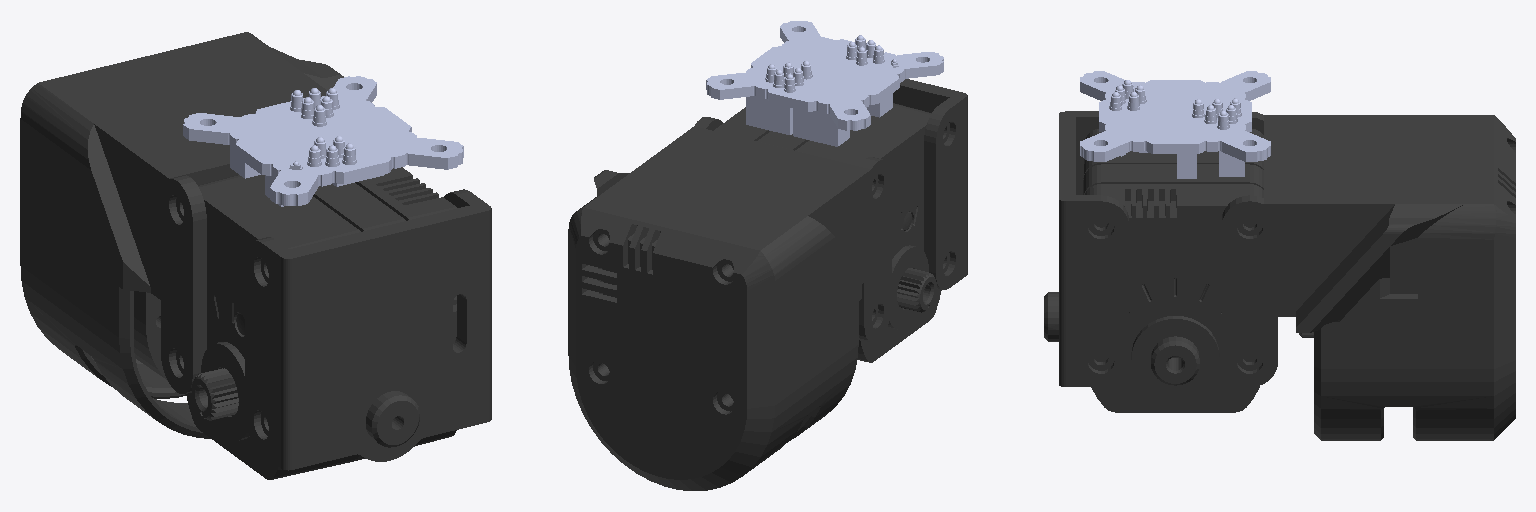
URDF robot description (screw_26mmhinge_module_cover_0deg):
<?xml version='1.0' encoding='UTF-8'?>
<robot name="screw_26mmhinge_module_cover_0deg">
  <link name="base_link">
    <inertial>
      <origin xyz="-0.000397243037985137 -0.000299123988951571 0.0268900174967925" rpy="0.0 -0.0 0.0"/>
      <mass value="0.0392907478850212"/>
      <inertia ixx="6.49315163386437e-06" ixy="-1.58700153015025e-07" ixz="1.07943557378575e-07" iyy="7.59585884582494e-06" iyz="-1.02493309535865e-09" izz="5.32693747823652e-06"/>
    </inertial>
    <visual>
      <geometry>
        <mesh filename="package://screw_26mmhinge_module_cover_0deg/meshes/base_link.dae"/>
      </geometry>
      <material name="__unnamed_material_1"/>
      <origin xyz="0.0 0.0 0.0" rpy="0.0 -0.0 0.0"/>
    </visual>
    <collision>
      <geometry>
        <mesh filename="package://screw_26mmhinge_module_cover_0deg/meshes/base_link.dae"/>
      </geometry>
      <origin xyz="0.0 0.0 0.0" rpy="0.0 -0.0 0.0"/>
    </collision>
  </link>
  <link name="link1">
    <inertial>
      <origin xyz="0.00050176181802974 0.000131881332311372 0.0261566388593281" rpy="0.0 -0.0 0.0"/>
      <mass value="0.015679495466009"/>
      <inertia ixx="2.36251577154097e-06" ixy="-2.28902268828607e-09" ixz="1.04881203366641e-08" iyy="2.26742863290264e-06" iyz="5.68818291644029e-09" izz="3.78920030884968e-06"/>
    </inertial>
    <visual>
      <geometry>
        <mesh filename="package://screw_26mmhinge_module_cover_0deg/meshes/link1.dae"/>
      </geometry>
      <material name="__unnamed_material_2"/>
      <origin xyz="0.0 0.0 0.0" rpy="0.0 -0.0 0.0"/>
    </visual>
    <collision>
      <geometry>
        <mesh filename="package://screw_26mmhinge_module_cover_0deg/meshes/link1.dae"/>
      </geometry>
      <origin xyz="0.0 0.0 0.0" rpy="0.0 -0.0 0.0"/>
    </collision>
  </link>
  <link name="dummy_link">
    <inertial>
      <origin xyz="-0.0014613136949066 0.000201870283592702 -0.00283550060370832" rpy="0.0 -0.0 0.0"/>
      <mass value="0.00131295075943631"/>
      <inertia ixx="5.41755504446753e-08" ixy="1.27650591704971e-09" ixz="-4.82976525914748e-09" iyy="5.88144881419792e-08" iyz="3.56234285325651e-10" izz="1.05520720481453e-07"/>
    </inertial>
    <visual>
      <geometry>
        <mesh filename="package://screw_26mmhinge_module_cover_0deg/meshes/dummy_link.dae"/>
      </geometry>
      <material name="__unnamed_material_3"/>
      <origin xyz="0.0 0.0 0.0" rpy="0.0 -0.0 0.0"/>
    </visual>
    <collision>
      <geometry>
        <mesh filename="package://screw_26mmhinge_module_cover_0deg/meshes/dummy_link.dae"/>
      </geometry>
      <origin xyz="0.0 0.0 0.0" rpy="0.0 -0.0 0.0"/>
    </collision>
  </link>
  <joint name="joint1" type="revolute">
    <limit effort="0.0" velocity="0.0" lower="0.0" upper="1.78"/>
    <parent link="base_link"/>
    <child link="link1"/>
    <axis xyz="-1.  0.  0."/>
    <origin xyz="0.0 0.0 0.04" rpy="0.0 -0.0 0.0"/>
  </joint>
  <joint name="dummy_joint" type="fixed">
    <limit effort="0.0" velocity="0.0"/>
    <parent link="link1"/>
    <child link="dummy_link"/>
    <axis xyz="0. 0. 0."/>
    <origin xyz="0.0 0.0 0.033" rpy="0.0 -0.0 -1.57079632679492"/>
  </joint>
  <material name="__unnamed_material_1">
    <color rgba="0.75294118 0.75294118 0.75294118 1.        "/>
  </material>
  <material name="__unnamed_material_2">
    <color rgba="0.29803922 0.29803922 0.29803922 1.        "/>
  </material>
  <material name="__unnamed_material_3">
    <color rgba="0.79215686 0.81960784 0.93333333 1.        "/>
  </material>
</robot>

--- Render facts (derived) ---
The picture shows the robot from 3 angles, left to right: view 1: azimuth 30°, elevation 25°; view 2: azimuth 150°, elevation 25°; view 3: azimuth 270°, elevation 25°; orthographic projection.
Robot: screw_26mmhinge_module_cover_0deg — 3 links, 2 joints (1 revolute, 1 fixed); root link base_link; default pose: all joints at 0.
Links seen in each view (by area): view 1: link1, dummy_link; view 2: link1, dummy_link; view 3: link1, dummy_link.
Link boxes in pixels (x1,y1,x2,y2): link1: (20, 32, 491, 479); dummy_link: (183, 76, 463, 206); link1: (568, 79, 967, 490); dummy_link: (706, 21, 943, 146); link1: (1044, 111, 1515, 440); dummy_link: (1080, 71, 1270, 178).
Bounding box of the posed robot: 0.038 × 0.0665 × 0.0519 m (x, y, z).
2 mesh visuals loaded from 3 distinct referenced files (2 Collada DAE); not drawn: 1 (reference not matched to a file when rendering).